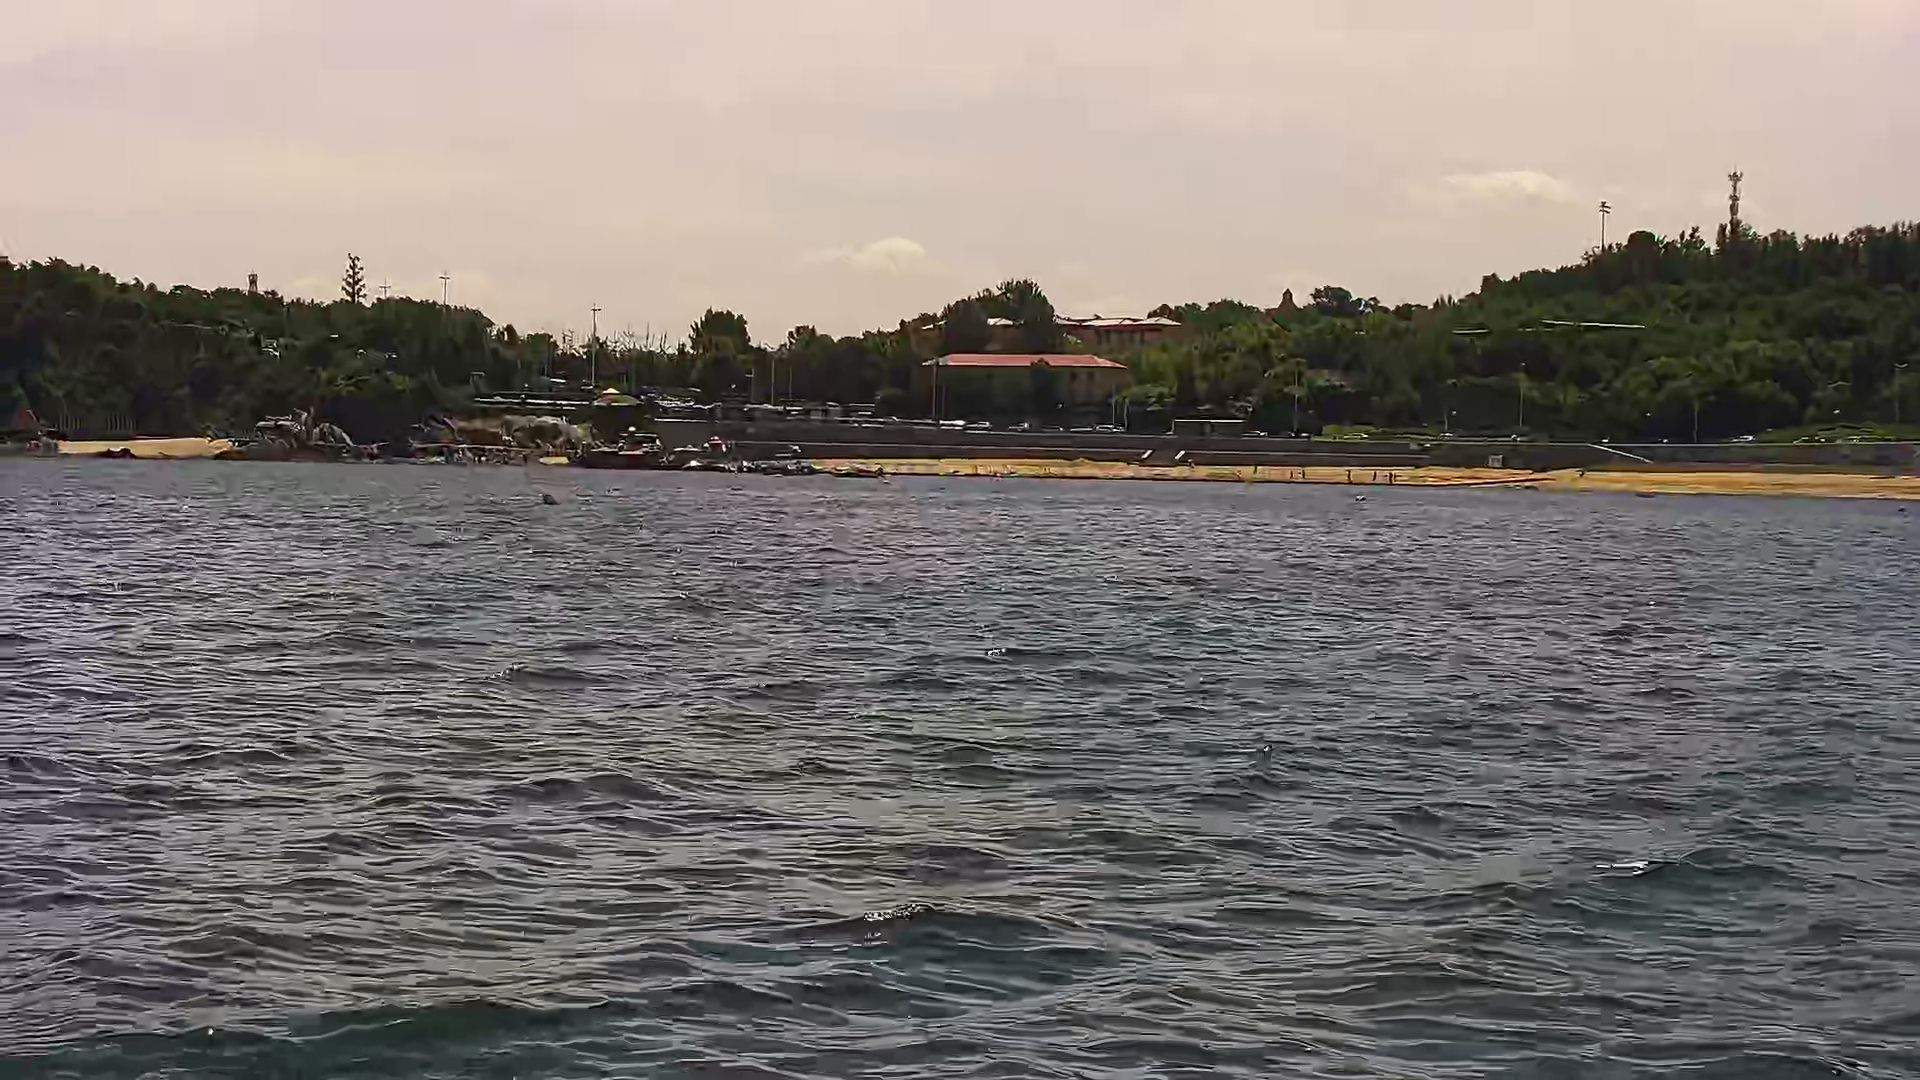boat: (564, 434, 688, 465), (822, 456, 898, 480)
rubbish: (529, 485, 568, 506)
